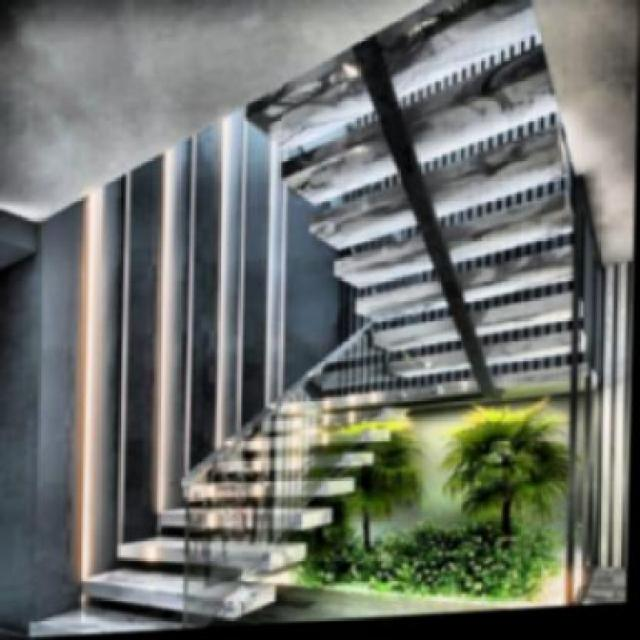stair: (40, 324, 354, 636)
